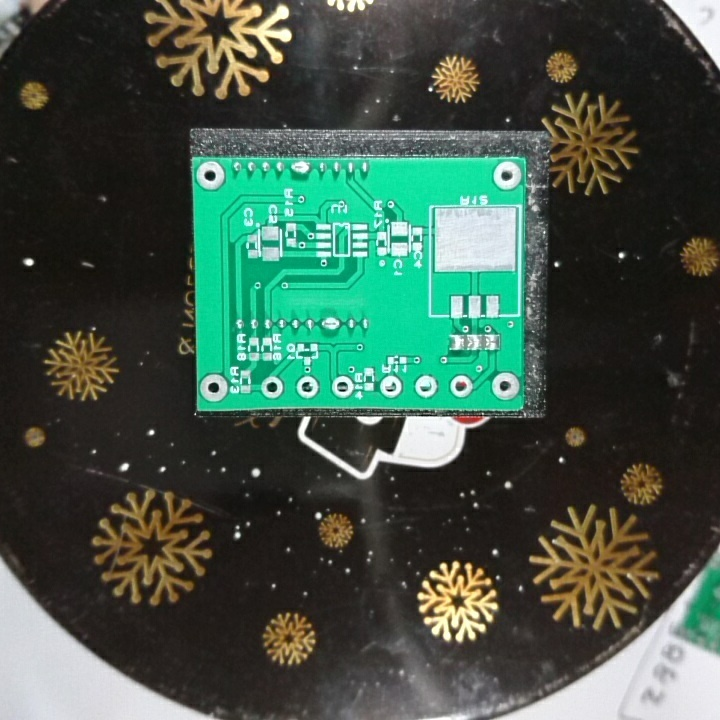F: (194, 158, 227, 193), (488, 159, 522, 191), (198, 372, 229, 403), (489, 371, 522, 400), (448, 373, 474, 400), (328, 374, 355, 400), (413, 374, 439, 400), (294, 374, 320, 400), (259, 375, 285, 400), (379, 373, 402, 398)
P: (288, 158, 312, 178), (319, 315, 342, 335)
